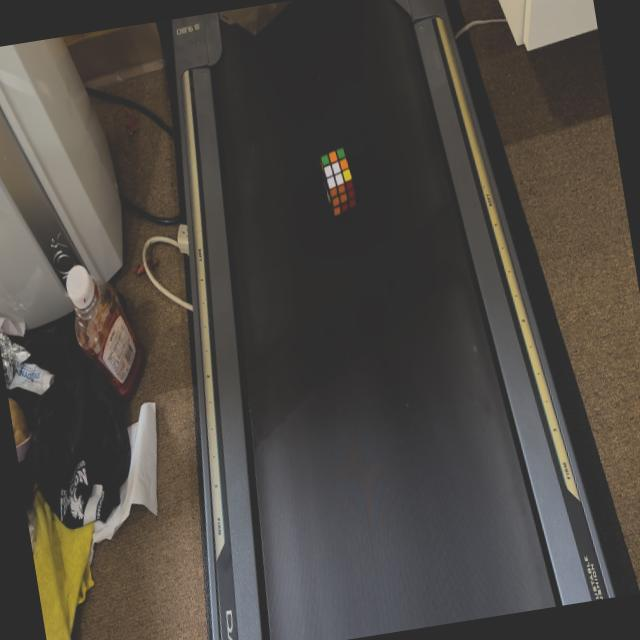Trash: (314, 144, 360, 220)
